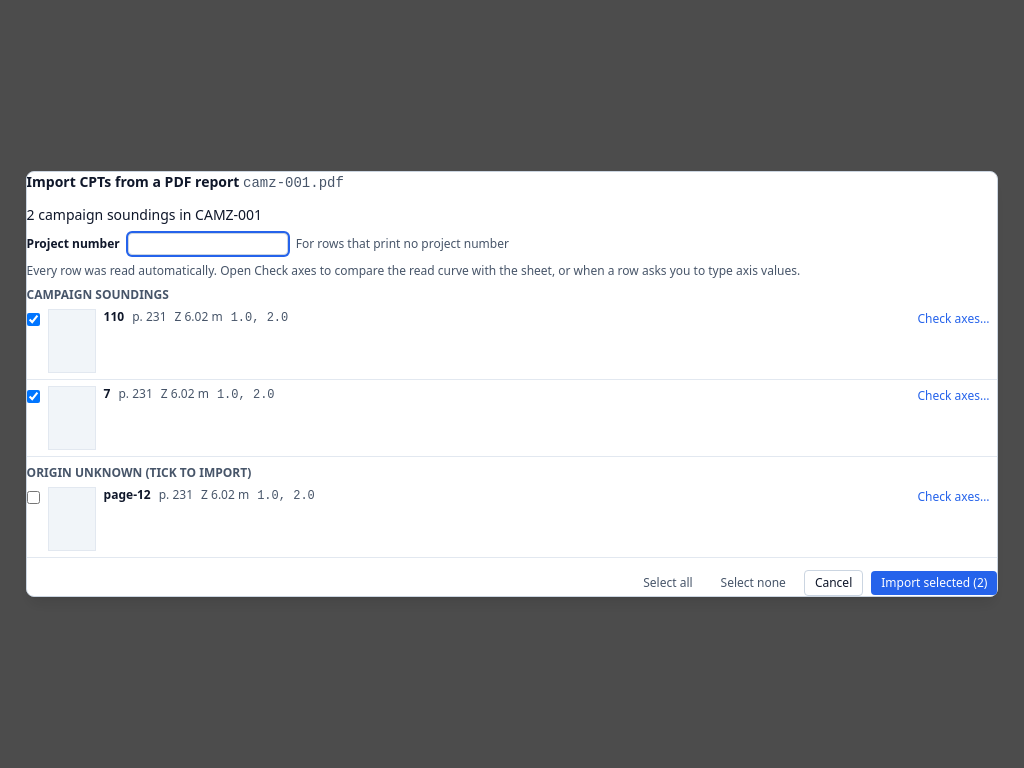
Test: CptPdfImportDialog › the report lists each sounding with its remarks
Click the button with test id "cpt-pdf-import": (934, 583) [871,571,997,595]
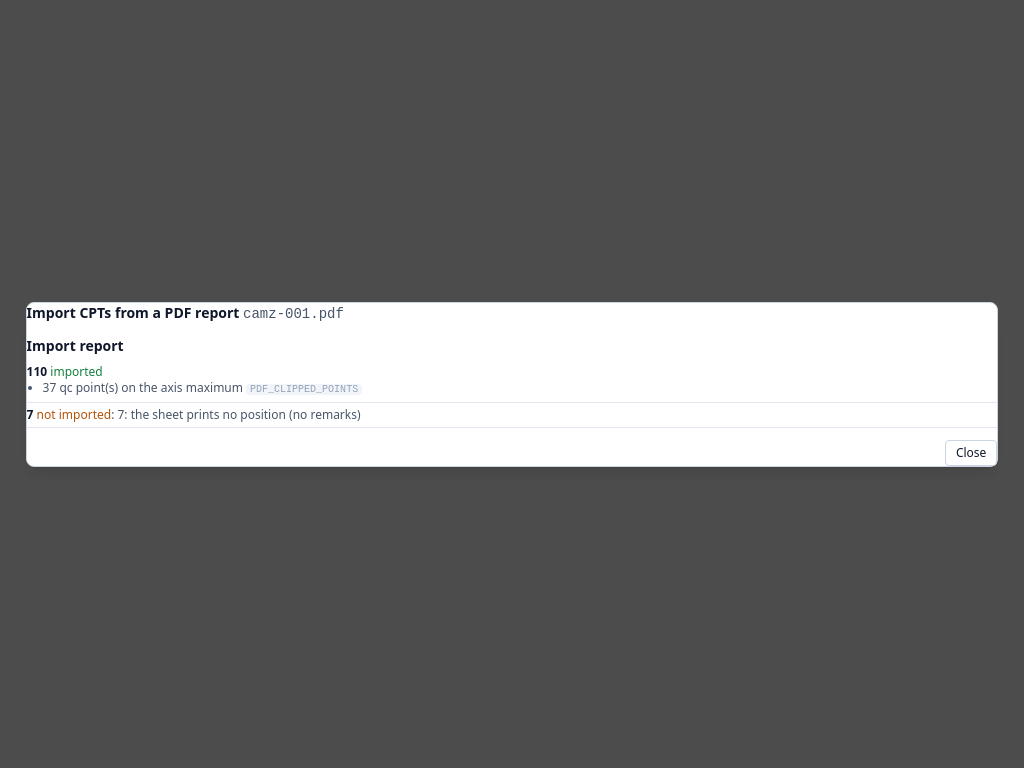
Expected: the list item with test id "cpt-pdf-report-row" shows "PDF_CLIPPED_POINTS", [250,384,358,394]
Expected: the list item with test id "cpt-pdf-report-row" shows "not imported", [37,406,111,422]
